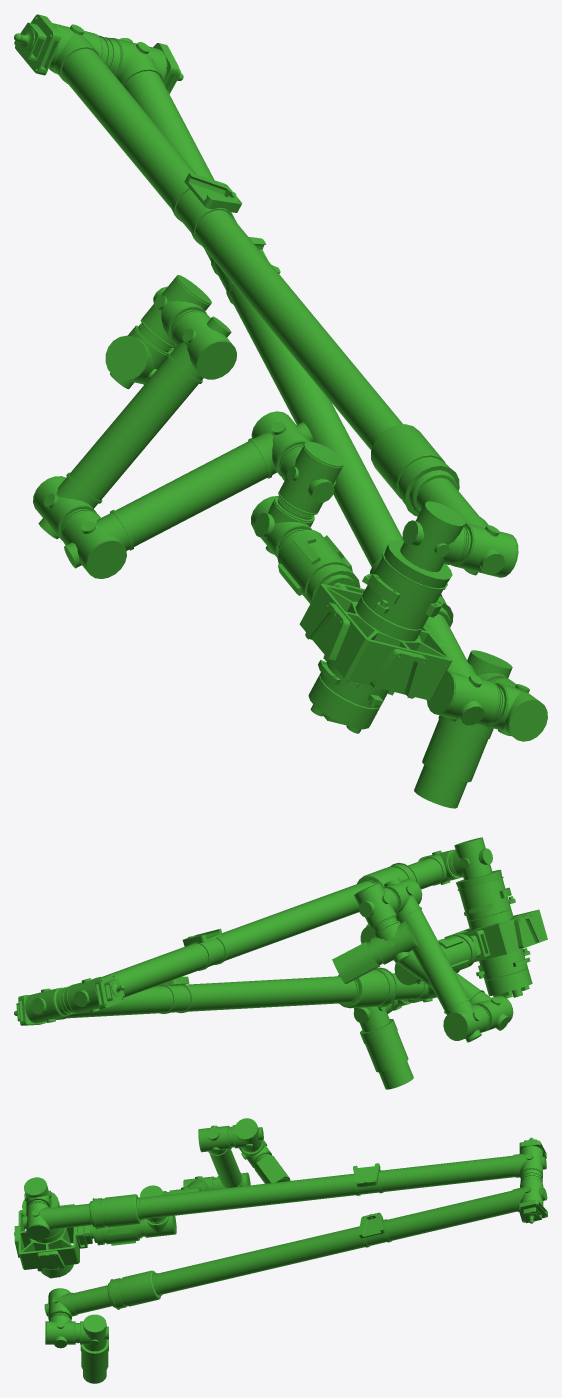
File: Canadarm.FBX
The picture shows the model from 3 angles, top to bottom: view 1: azimuth 30°, elevation 25°; view 2: azimuth 150°, elevation 25°; view 3: azimuth 270°, elevation 25°; orthographic projection. The views are drawn at different scales.
Visible parts, largest first — view 1: Canadarm_Rotor_Long02, Canadarm_Rotor_Long01, Canadarm_Rotor_Large02, Canadarm_Rotor_Large01, Canadarm_Rotor_Control02, Canadarm_Rotor_Control01, Canadarm_Main, Canadarm_Rotor_Control08, Canadarm_Rotor_Control03, Canadarm_Rotor_Normal09, Canadarm_Rotor_Normal11, Canadarm_Rotor_Normal13 (+15 smaller); view 2: Canadarm_Rotor_Long01, Canadarm_Rotor_Long02, Canadarm_Rotor_Large02, Canadarm_Rotor_Control01, Canadarm_Main, Canadarm_Rotor_Control03, Canadarm_Rotor_Control02, Canadarm_Rotor_Normal14, Canadarm_Rotor_Normal12, Canadarm_Rotor_EndPoint01, Canadarm_Rotor_Normal04, Canadarm_Rotor_Normal15 (+15 smaller); view 3: Canadarm_Rotor_Long02, Canadarm_Rotor_Long01, Canadarm_Rotor_Control02, Canadarm_Main, Canadarm_Rotor_Large02, Canadarm_Rotor_Control08, Canadarm_Rotor_Normal13, Canadarm_Rotor_Normal02, Canadarm_Rotor_Normal06, Canadarm_Rotor_Normal01, Canadarm_Rotor_Normal14, Canadarm_Rotor_EndPoint01 (+11 smaller).
Boxes of the visible parts, box(x1,y1,x2,y2) form: Canadarm_Rotor_Long02: box(54, 33, 488, 528); Canadarm_Rotor_Long01: box(118, 52, 476, 677); Canadarm_Rotor_Large02: box(56, 342, 203, 508); Canadarm_Rotor_Large01: box(95, 433, 276, 550); Canadarm_Rotor_Control02: box(299, 583, 452, 700); Canadarm_Rotor_Control01: box(355, 540, 452, 641); Canadarm_Main: box(414, 715, 493, 808); Canadarm_Rotor_Control08: box(277, 529, 360, 603); Canadarm_Rotor_Control03: box(308, 660, 394, 733); Canadarm_Rotor_Normal09: box(278, 441, 344, 516); Canadarm_Rotor_Normal11: box(61, 510, 126, 578); Canadarm_Rotor_Normal13: box(171, 311, 236, 379); Canadarm_Rotor_Long01: box(55, 967, 428, 1019); Canadarm_Rotor_Long02: box(91, 854, 447, 997); Canadarm_Rotor_Large02: box(396, 896, 473, 1014); Canadarm_Rotor_Control01: box(456, 869, 515, 929); Canadarm_Main: box(360, 1019, 413, 1089); Canadarm_Rotor_Control03: box(476, 948, 532, 998); Canadarm_Rotor_Control02: box(444, 909, 547, 961); Canadarm_Rotor_Normal14: box(354, 882, 397, 930); Canadarm_Rotor_Normal12: box(443, 1004, 488, 1042); Canadarm_Rotor_EndPoint01: box(332, 941, 381, 983); Canadarm_Rotor_Normal04: box(24, 987, 71, 1023); Canadarm_Rotor_Normal15: box(369, 921, 418, 964); Canadarm_Rotor_Long02: box(39, 1154, 526, 1230); Canadarm_Rotor_Long01: box(59, 1187, 524, 1316); Canadarm_Rotor_Control02: box(18, 1204, 79, 1269); Canadarm_Main: box(80, 1339, 108, 1383); Canadarm_Rotor_Large02: box(208, 1149, 243, 1188); Canadarm_Rotor_Control08: box(94, 1221, 143, 1245); Canadarm_Rotor_Normal13: box(198, 1125, 232, 1152); Canadarm_Rotor_Normal02: box(45, 1321, 77, 1348); Canadarm_Rotor_Normal06: box(22, 1201, 49, 1240); Canadarm_Rotor_Normal01: box(83, 1314, 108, 1351); Canadarm_Rotor_Normal14: box(234, 1118, 263, 1152); Canadarm_Rotor_EndPoint01: box(254, 1155, 290, 1183).
Bounding box in the file's own units: 234 × 245 × 481.
